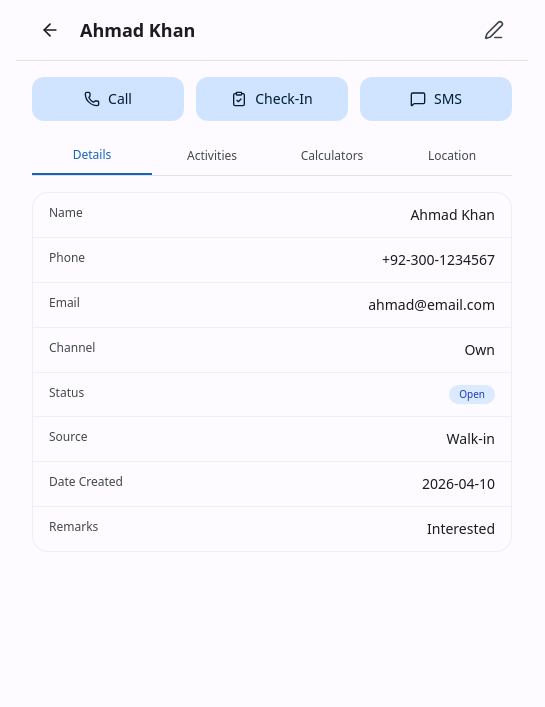
Test case: LeadDetailContent › saves updated lead name
Click the button named "Toggle edit" at (494, 30), box [476, 12, 512, 48]
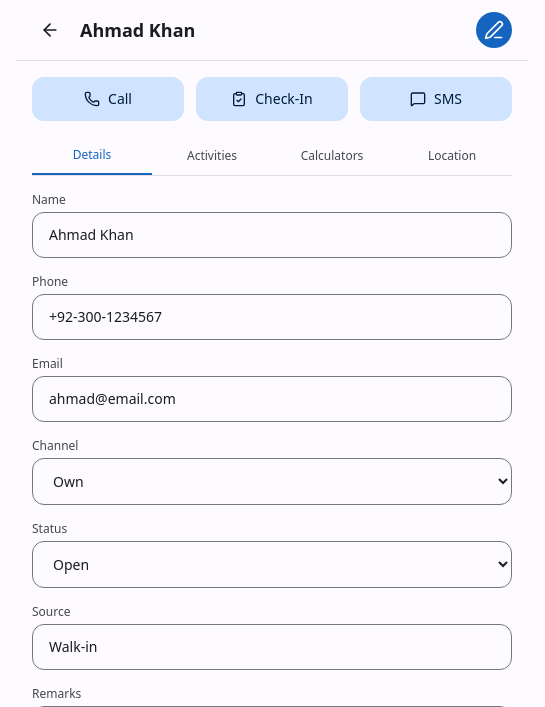
Replace the text in the field showing "Ahmad Khan" below "Name" with "Ahmad Updated" at (272, 235), box [32, 212, 512, 258]
(page scrolled)
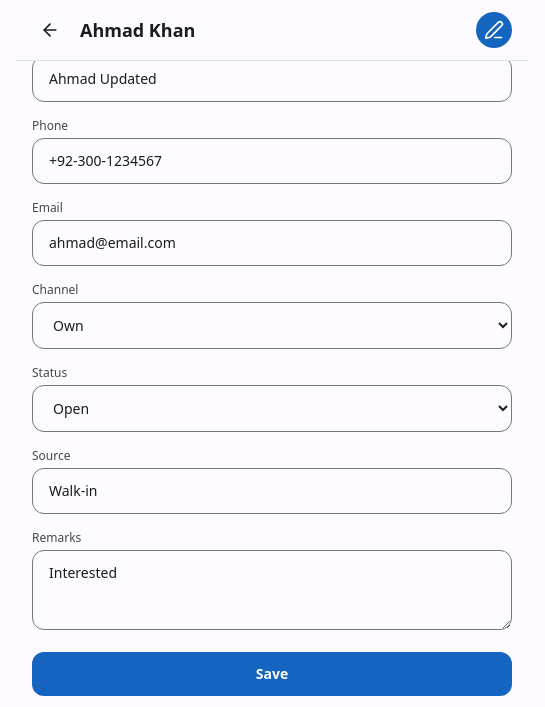
Click the button "Save" at (272, 674), box [32, 652, 512, 696]
(page scrolled)
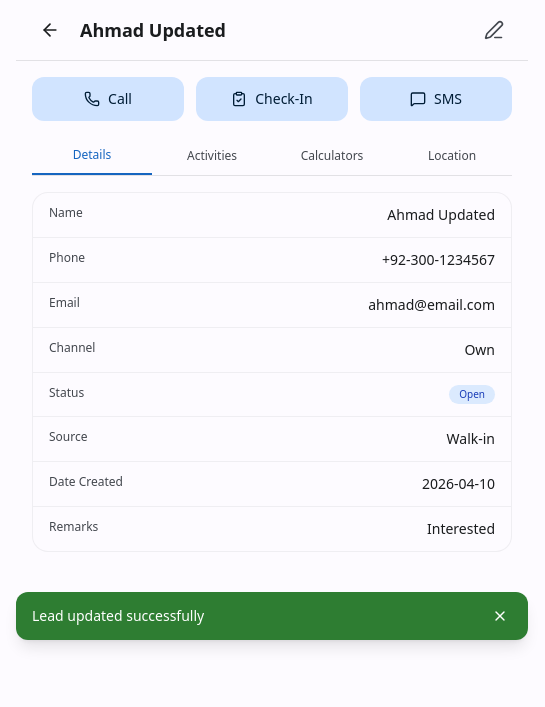
Check: the heading "Ahmad Updated" is shown, box [80, 16, 226, 44]
